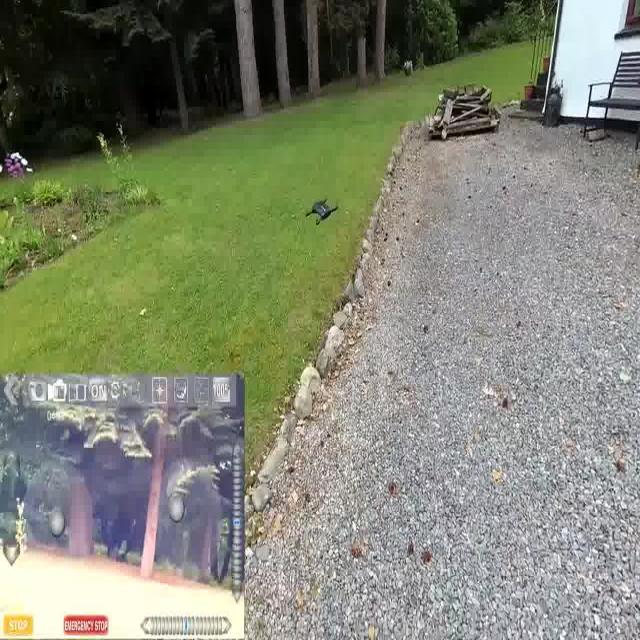drone: (304, 194, 340, 227)
